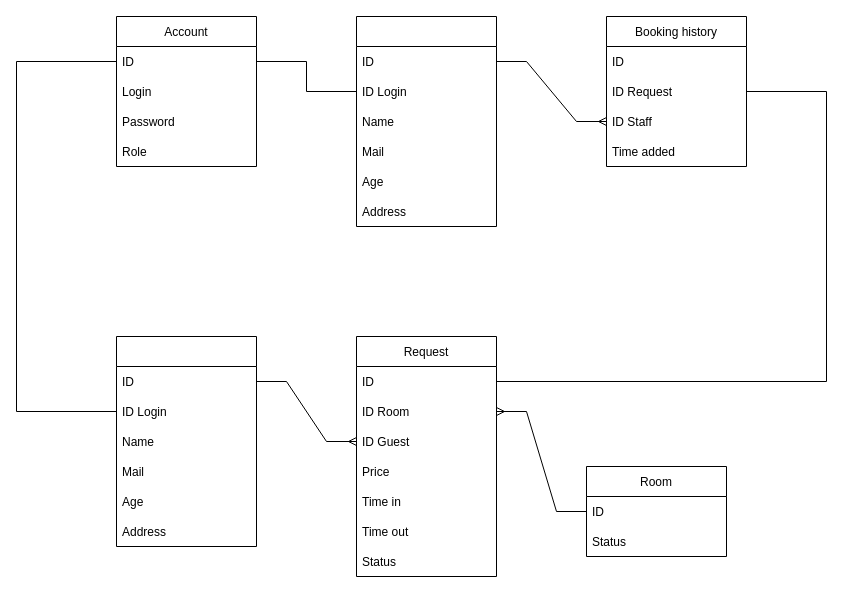
The diagram is 843 pixels wide and 593 high, and some of its shapes have lost their labels. The shapes that lost their labels are listed below. From the top down, each one's box as (x1, y1, x2, y2) in pixels, then its label:
(356, 16, 496, 226): Staff
(116, 336, 256, 546): Guest
